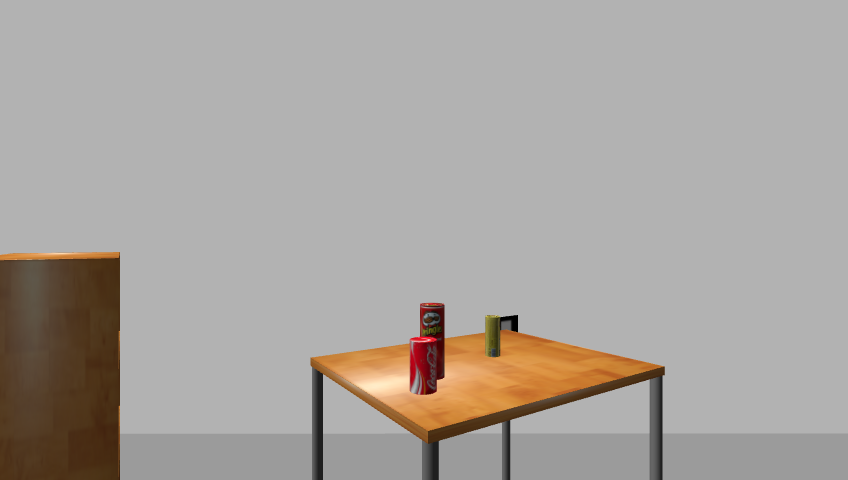aruco marker: (495, 315, 521, 336)
biscuits pack: (485, 315, 501, 358)
bookshelf: (0, 251, 128, 480)
coke can: (406, 337, 442, 396)
dinner table: (300, 330, 674, 480)
pringles can: (418, 301, 447, 382)
